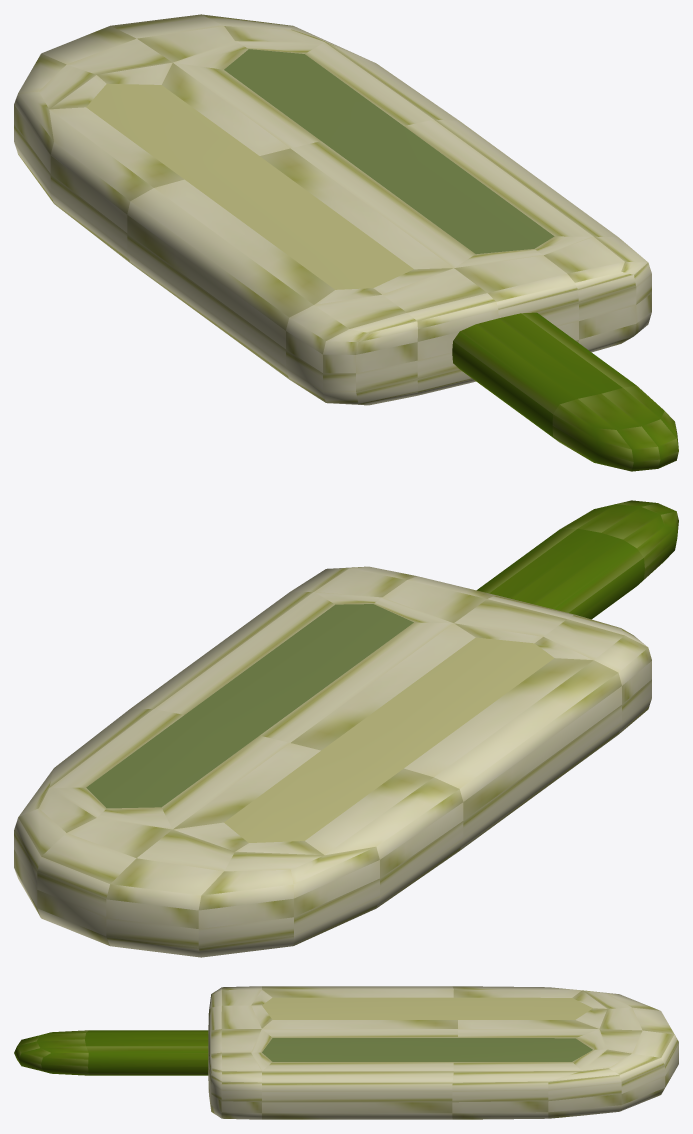
Rendered from OBS0110275.fbx.
3 views of the same model, one above another, from view 1: azimuth 30°, elevation 25°; view 2: azimuth 150°, elevation 25°; view 3: azimuth 270°, elevation 25° (orthographic). The views are drawn at different scales.
Parts seen in each view (by area): view 1: smOBS0110275; view 2: smOBS0110275; view 3: smOBS0110275.
Boxes of the visible parts, x1,y1,x2,y2 form: smOBS0110275: (14,14,678,471); smOBS0110275: (14,500,678,957); smOBS0110275: (14,986,678,1119).
Size of the model in its own units: 105 by 23.96 by 299.
